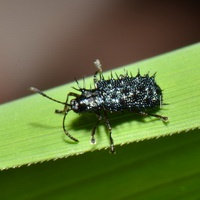insect: (29, 59, 168, 153)
